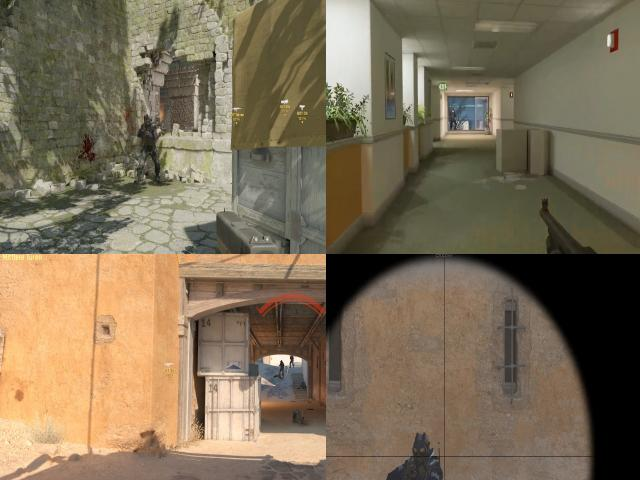CT: (389, 431, 443, 480), (134, 111, 164, 189), (449, 107, 457, 131), (279, 360, 285, 377), (290, 356, 294, 368)
CT-Head: (413, 433, 432, 466), (142, 114, 152, 129), (280, 360, 282, 364)
Dead: (293, 409, 304, 423), (274, 373, 283, 379), (302, 382, 306, 390)
